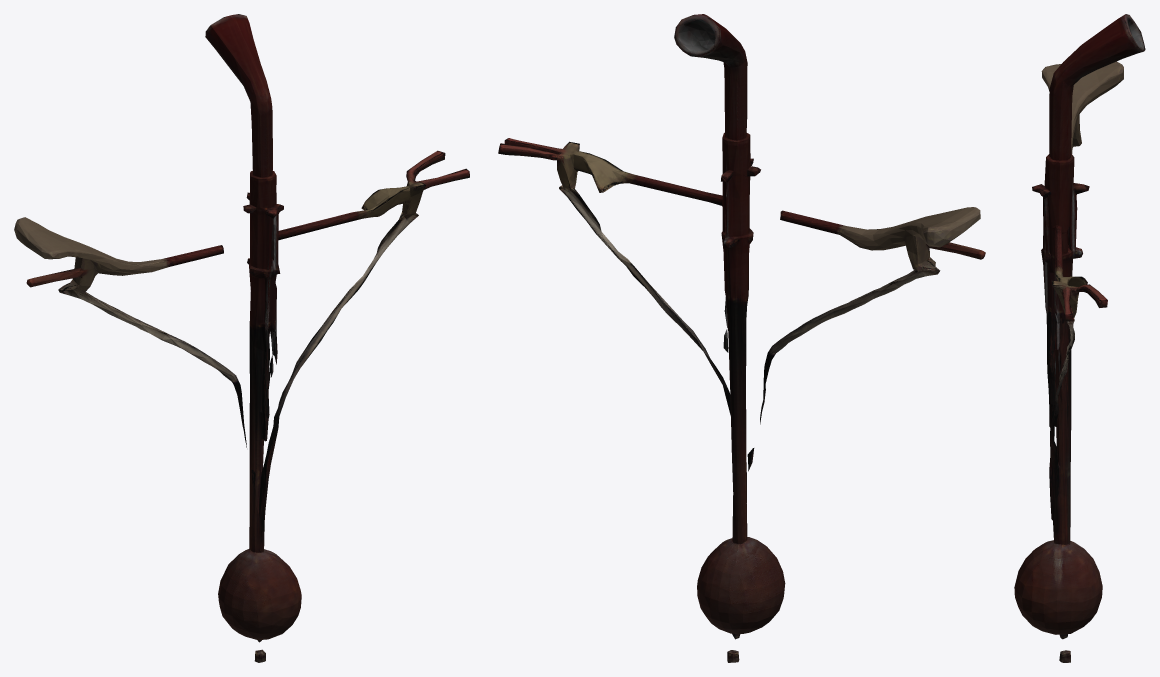
File: dki-jakarta.glb
The picture shows the model from 3 angles, left to right: view 1: azimuth 30°, elevation 25°; view 2: azimuth 150°, elevation 25°; view 3: azimuth 270°, elevation 25°; orthographic projection. The views are drawn at different scales.
Visible parts, largest first — view 1: world; view 2: world; view 3: world.
Part boxes in pixels (x1=…): world: x1=14, y1=14, x2=469, y2=662; world: x1=498, y1=14, x2=985, y2=662; world: x1=1014, y1=14, x2=1145, y2=662.
Bounding box in the file's own units: 0.5205 × 0.7008 × 0.1291.
1 material, 1 textured.
